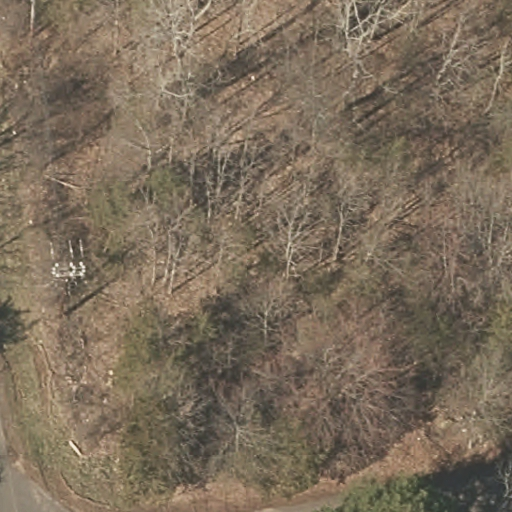DT: (49, 260, 87, 282)
